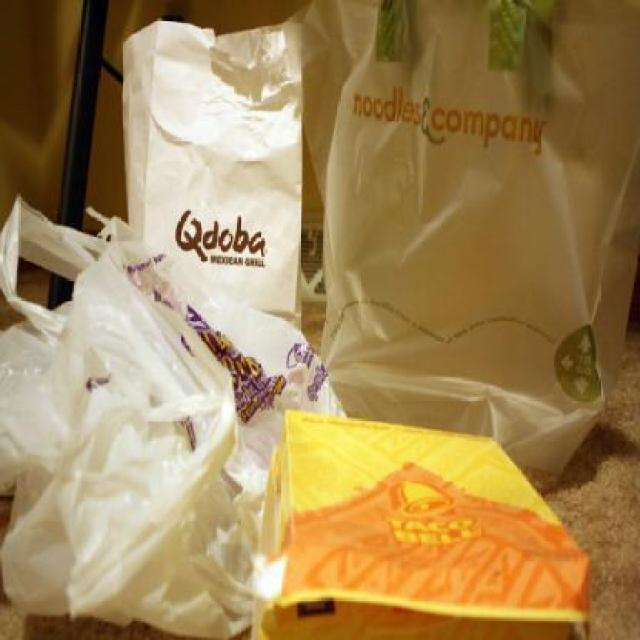plastic bag: (283, 0, 639, 474), (0, 183, 349, 639)
